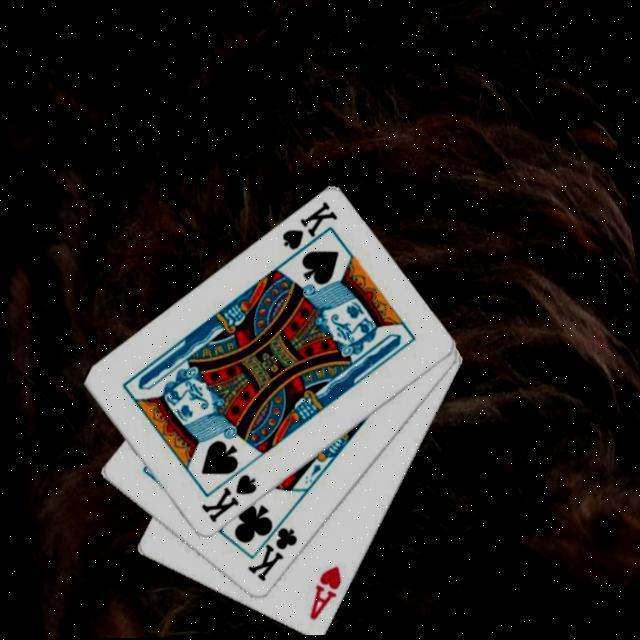AH: (298, 562, 350, 625)
KC: (236, 510, 306, 588)
KS: (273, 196, 345, 265), (193, 469, 264, 528)
